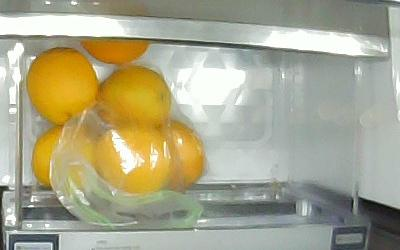orange: (26, 46, 99, 125), (81, 40, 150, 64)
orange_vinyl: (95, 125, 170, 193), (99, 66, 170, 129), (32, 125, 97, 190), (157, 121, 205, 193)
